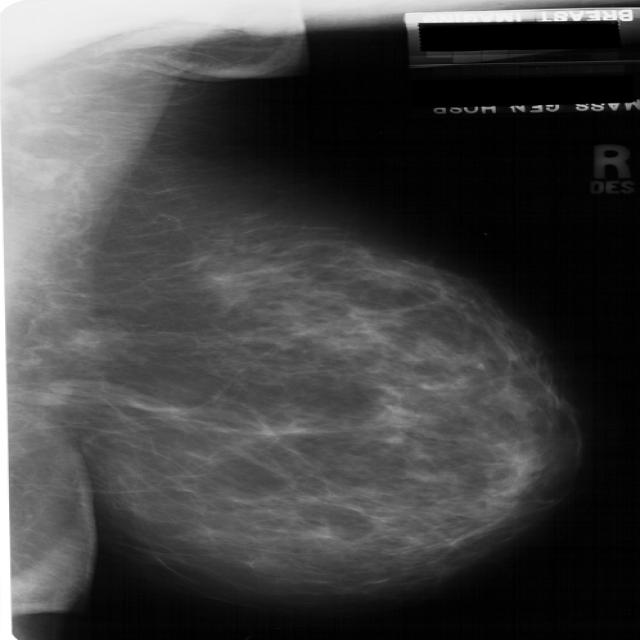tumour: (70, 328, 102, 348)
